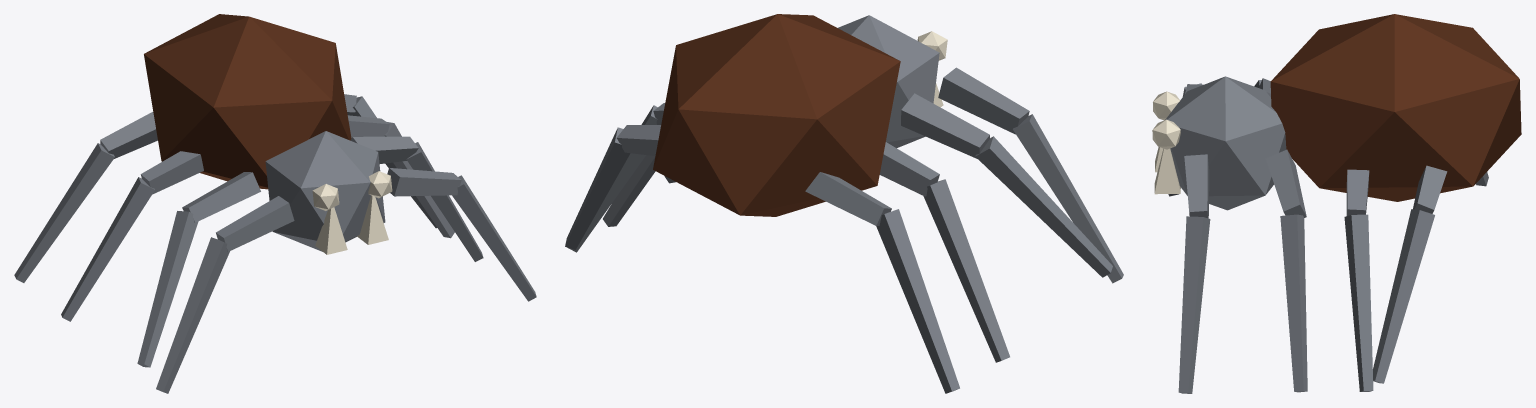
Rendered from npcpose_spider_walk_01.glb.
The picture shows the model from 3 angles, left to right: view 1: azimuth 30°, elevation 25°; view 2: azimuth 150°, elevation 25°; view 3: azimuth 270°, elevation 25°; orthographic projection. The views are drawn at different scales.
Parts seen in each view (by area): view 1: npcpose; view 2: npcpose; view 3: npcpose.
Boxes of the visible parts, x1,y1,x2,y2 form: npcpose: (14, 14, 536, 393); npcpose: (565, 14, 1123, 393); npcpose: (1152, 14, 1521, 393).
Size of the model in its own units: 1.33 by 0.8428 by 0.9978.
